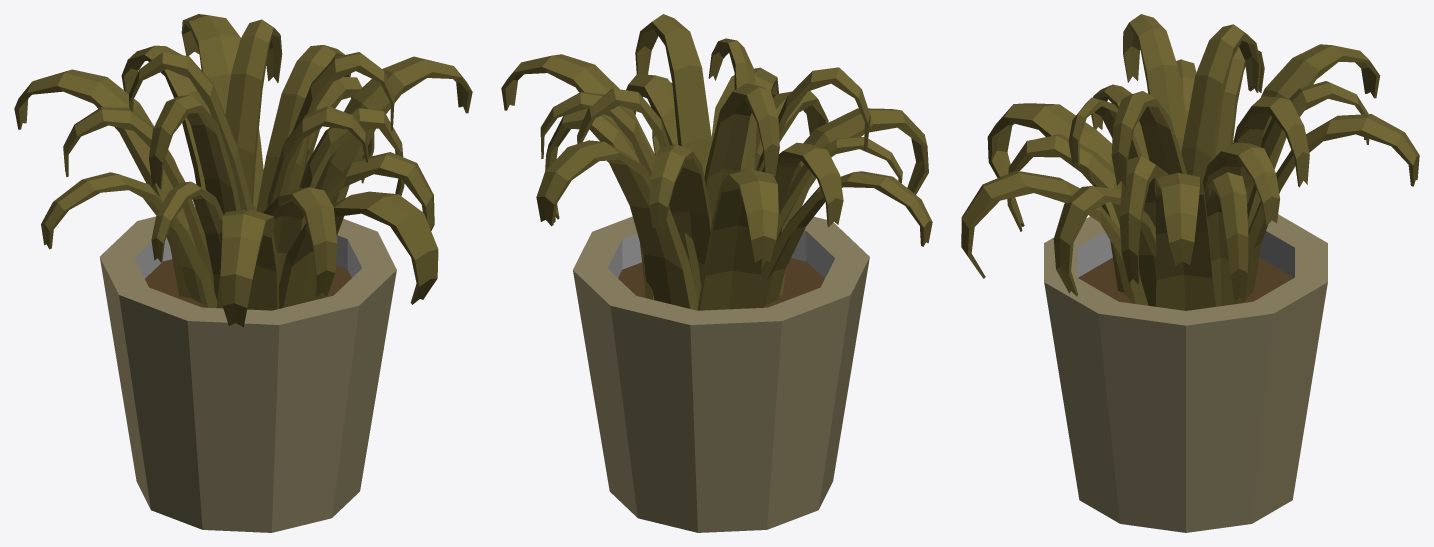
The model's file is saksı.fbx.
3 renders of one model, left to right at view 1: azimuth 30°, elevation 25°; view 2: azimuth 150°, elevation 25°; view 3: azimuth 270°, elevation 25°, orthographic.
Parts seen in each view (by area): view 1: room:polySurface227; view 2: room:polySurface227; view 3: room:polySurface227.
Part boxes in pixels (x1=…): room:polySurface227: x1=14, y1=14, x2=472, y2=532; room:polySurface227: x1=501, y1=14, x2=932, y2=532; room:polySurface227: x1=961, y1=14, x2=1419, y2=532.
Size of the model in its own units: 5.75 by 5.62 by 5.41.
